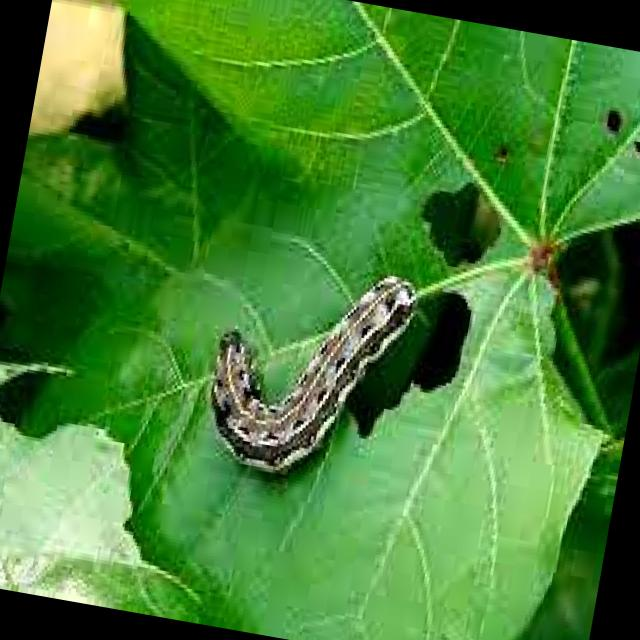Armyworm: (168, 195, 428, 510)
Armyworm_damage: (411, 176, 520, 296), (588, 98, 635, 163)
